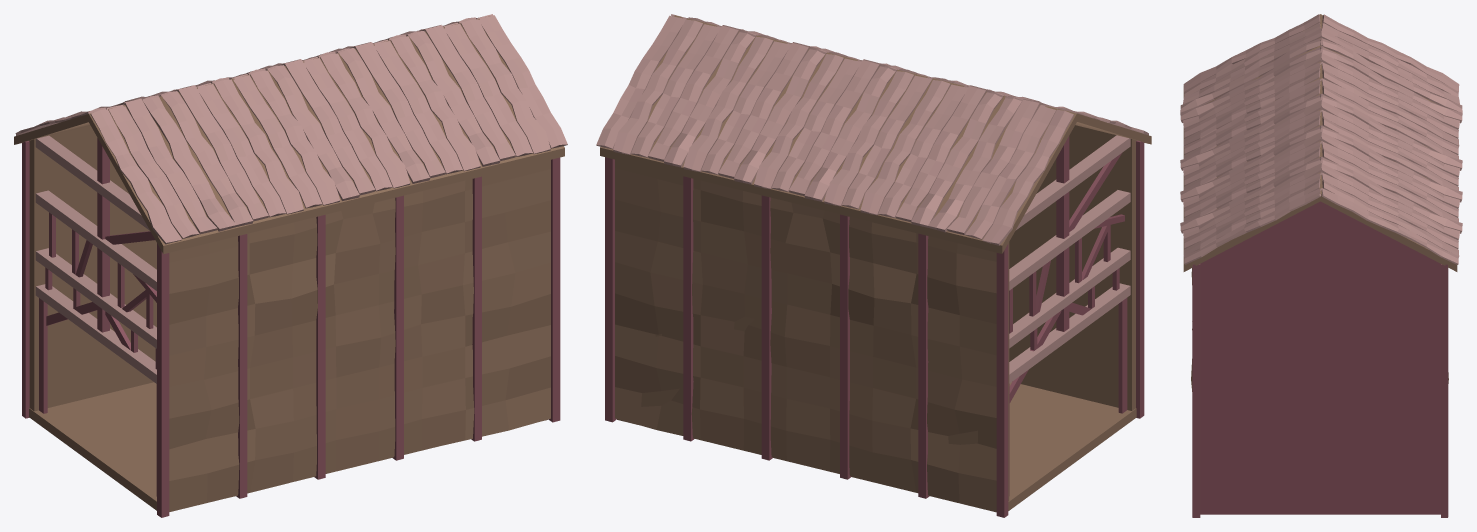
File: toilhouse1.FBX
The picture shows the model from 3 angles, left to right: view 1: azimuth 30°, elevation 25°; view 2: azimuth 150°, elevation 25°; view 3: azimuth 270°, elevation 25°; orthographic projection. The views are drawn at different scales.
Visible parts, largest first — view 1: Box027, Shape030, Box002, Shape006, Box006, Box001, Box010, Box005, Box004, Shape007, Box007, Box009 (+2 smaller); view 2: Box028, Shape031, Shape007, Box003, Box001, Box006, Shape006, Box010, Box005, Box004, Box007, Box009 (+4 smaller); view 3: Box008, Shape031, Shape030, Box006, Shape006, Shape007.
Part boxes in pixels (x1,y1,x2,y2): Box027: (169, 147, 550, 511); Shape030: (90, 15, 567, 244); Box002: (29, 125, 156, 411); Shape006: (157, 157, 560, 517); Box006: (14, 16, 564, 254); Box001: (29, 382, 547, 511); Box010: (35, 190, 156, 290); Box005: (35, 248, 156, 348); Box004: (35, 284, 156, 383); Shape007: (22, 141, 29, 418); Box007: (35, 135, 149, 230); Box009: (97, 138, 109, 332); Box028: (615, 159, 996, 511); Shape031: (596, 15, 1074, 245); Shape007: (605, 157, 1008, 517); Box003: (1009, 125, 1136, 410); Box001: (617, 382, 1136, 512); Box006: (600, 15, 1151, 253); Shape006: (1136, 140, 1144, 418); Box010: (1009, 190, 1130, 290); Box005: (1009, 247, 1130, 348); Box004: (1009, 283, 1130, 383); Box007: (1015, 135, 1130, 230); Box009: (1056, 136, 1069, 331); Box008: (1200, 201, 1440, 514); Shape031: (1320, 14, 1462, 264); Shape030: (1180, 14, 1323, 264); Box006: (1183, 14, 1457, 271); Shape006: (1192, 264, 1200, 517); Shape007: (1441, 264, 1448, 517).
Size of the model in its own units: 139 by 116 by 90.72.
